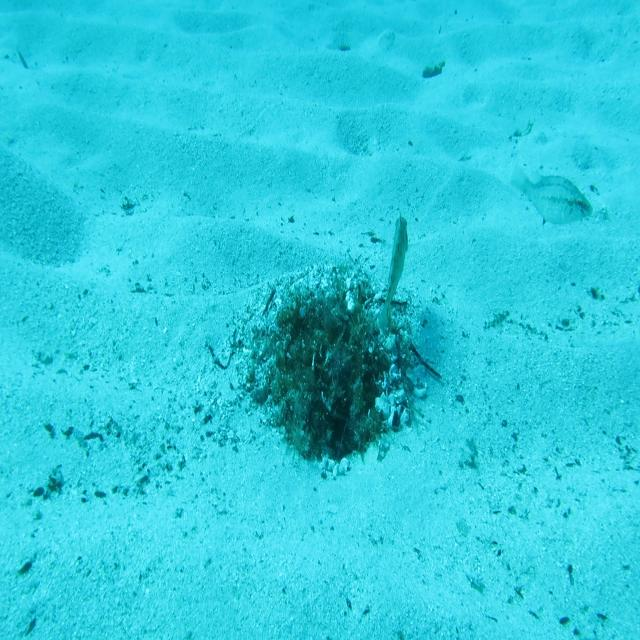BN: (377, 209, 422, 342)
core_nest: (300, 311, 342, 339)
female: (510, 158, 594, 231)
nest: (223, 248, 432, 494)
vegetation: (421, 60, 447, 81)
